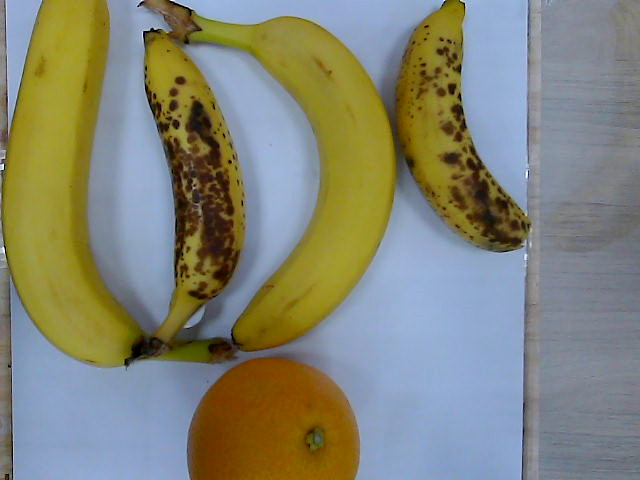fresh_banana: (143, 1, 397, 351), (5, 1, 246, 363)
fresh_orange: (186, 356, 361, 480)
rotten_banana: (396, 1, 533, 257), (140, 28, 246, 356)
